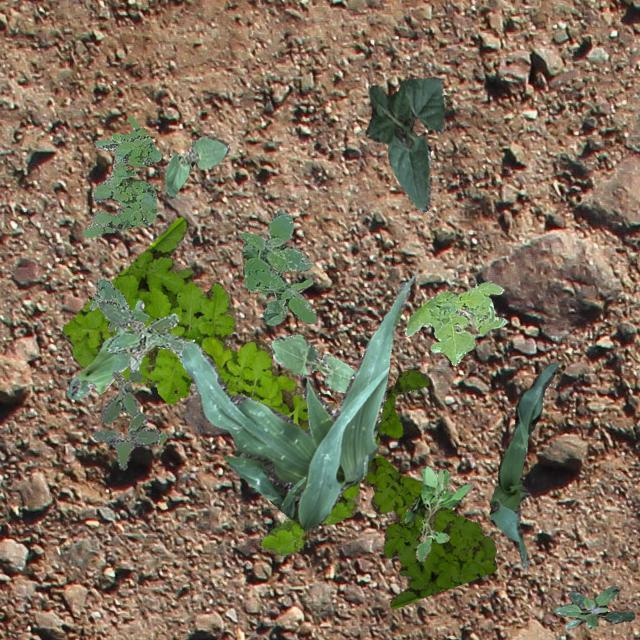crop: (182, 274, 414, 530), (488, 362, 556, 570), (364, 76, 444, 212), (66, 300, 142, 398), (268, 334, 354, 392), (162, 134, 228, 198)
weed: (61, 216, 358, 554), (362, 368, 496, 608), (80, 115, 160, 236), (240, 210, 316, 324), (404, 280, 506, 364), (91, 369, 166, 468), (401, 464, 472, 560), (98, 300, 186, 372), (552, 584, 634, 628), (89, 276, 148, 330)
